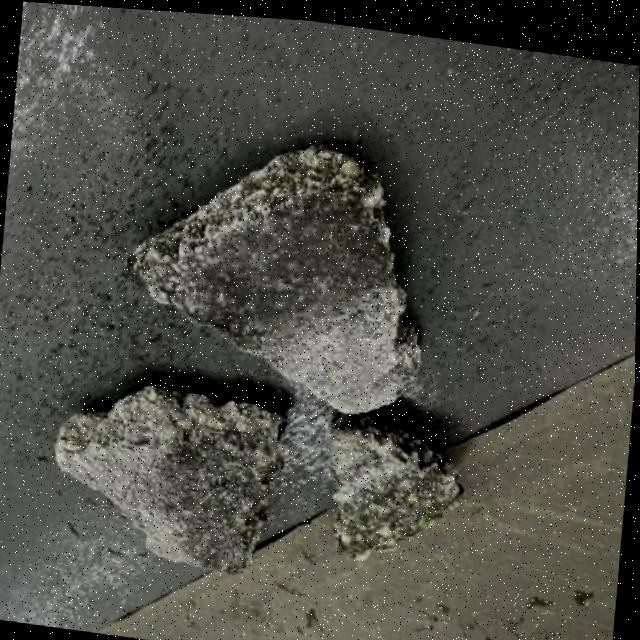Road Debris: (157, 159, 399, 370), (149, 419, 278, 574), (329, 460, 454, 560)
